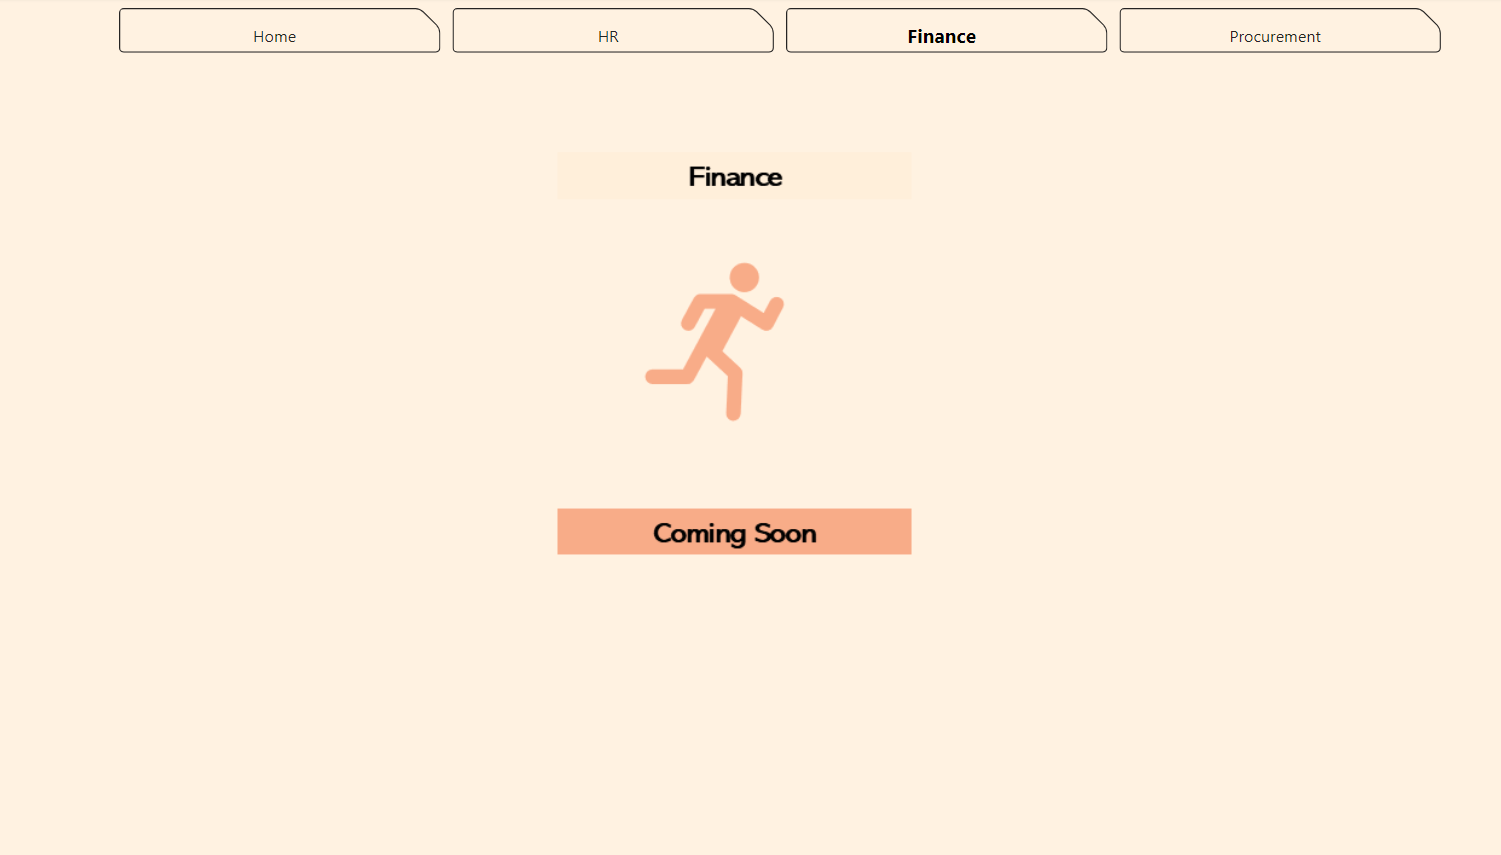

This screenshot's page, from the dashboard's own definition file:
{"tool":"powerbi","page":{"name":"Finance","canvas":[1280,720],"ordinal":2},"visuals":[{"type":"pageNavigator","box":[120.8,9.5,1096.3,38],"z":0}]}

Visuals, with their boxes in screenshot pixels (x1, y1, x2, y2), scaled from the page's 1280x720 canvas onto the 1501x855 screenshot:
pageNavigator: {"left": 142, "top": 11, "right": 1427, "bottom": 56}
